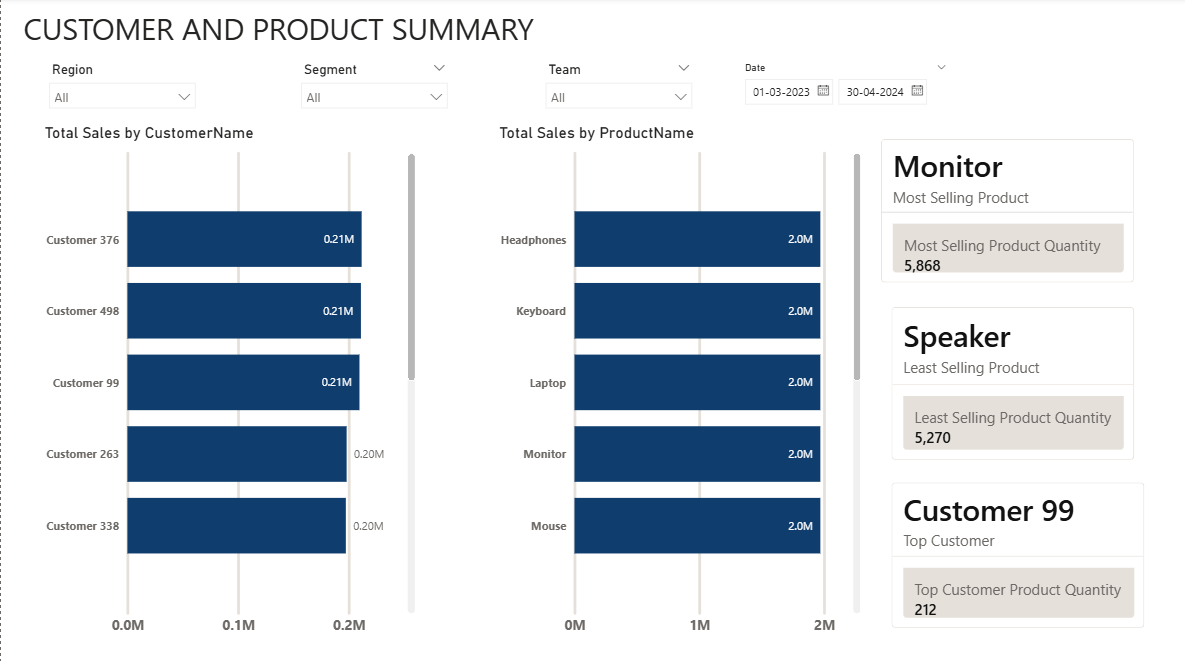

The dashboard page shown, as its layout file describes it:
{"tool":"powerbi","page":{"name":"Customer Summary","canvas":[1280,720],"ordinal":2},"visuals":[{"type":"clusteredBarChart","fields":{"Category":["Customers.CustomerName"],"Y":["_All Measures.Total Sales"]},"box":[42.1,136,409.7,561.9],"z":0},{"type":"slicer","fields":{"Values":["Calender.Date"]},"box":[790.2,64.8,242.9,71.2],"z":1000},{"type":"slicer","fields":{"Values":["SalesData.Region"]},"box":[42.1,64.8,178.1,71.2],"z":2000},{"type":"slicer","fields":{"Values":["SalesData.Segment"]},"box":[314.1,64.8,178.1,71.2],"z":3000},{"type":"slicer","fields":{"Values":["SalesData.Team"]},"box":[578.1,64.8,178.1,71.2],"z":4000},{"type":"actionButton","title":"CUSTOMER AND PRODUCT SUMMARY","box":[24.3,11.3,553.8,40.5],"z":5000},{"type":"clusteredBarChart","fields":{"Y":["_All Measures.Total Sales"],"Category":["Products.ProductName"]},"box":[532.7,136,399.9,561.9],"z":6000},{"type":"cardVisual","fields":{"Data":["_All Measures.Most Selling Product"]},"box":[932.7,136,307.7,189.4],"z":7000},{"type":"cardVisual","fields":{"Data":["_All Measures.Least Selling Product"]},"box":[944,317.4,296.3,199.2],"z":8000},{"type":"cardVisual","fields":{"Data":["_All Measures.Top Customer"]},"box":[944,506.8,307.7,191.1],"z":9000}]}

Visuals, with their boxes in screenshot pixels (x1, y1, x2, y2), scaled from the page's 1280x720 canvas onto the 1185x661 screenshot:
clusteredBarChart - Customers.CustomerName x _All Measures.Total Sales: region(39, 125, 418, 641)
slicer - Calender.Date: region(732, 59, 956, 125)
slicer - SalesData.Region: region(39, 59, 204, 125)
slicer - SalesData.Segment: region(291, 59, 456, 125)
slicer - SalesData.Team: region(535, 59, 700, 125)
"CUSTOMER AND PRODUCT SUMMARY" actionButton: region(22, 10, 535, 48)
clusteredBarChart - _All Measures.Total Sales x Products.ProductName: region(493, 125, 863, 641)
cardVisual - _All Measures.Most Selling Product: region(863, 125, 1148, 299)
cardVisual - _All Measures.Least Selling Product: region(874, 291, 1148, 474)
cardVisual - _All Measures.Top Customer: region(874, 465, 1159, 641)
